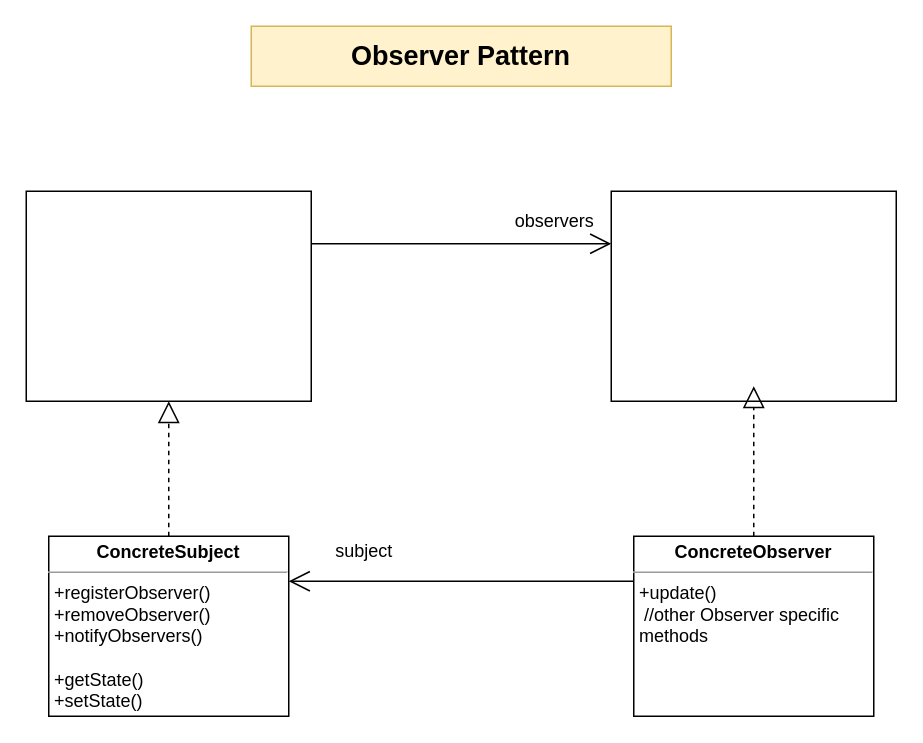
Some shapes in this 923 by 743 pixel diagram are drawn without their labels. The shapes that lost their labels are listed below. From the top down, each one's centre as x and y in pixels, then its label:
At (x=168, y=295): "<<Interface>> Subject +registerObserver() +removeObserver() +notifyObservers()".
At (x=753, y=295): "<<Interface>> Observer +update()".
